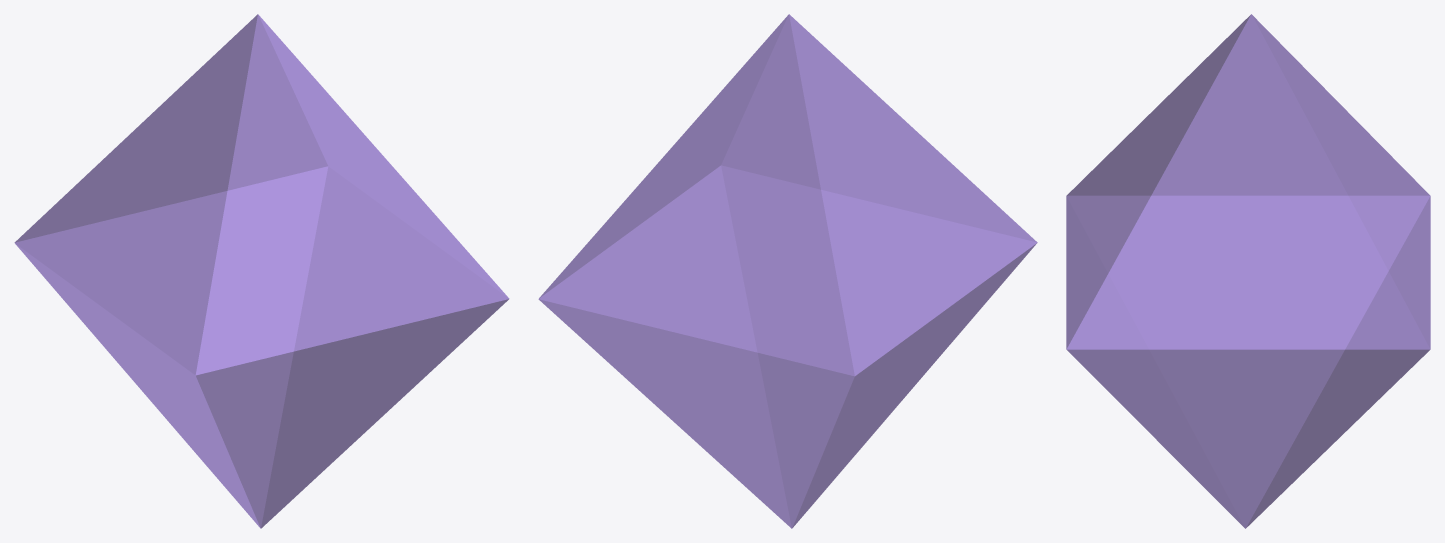
File: Gem_New_06.fbx
3 views of the same model, side by side, from view 1: azimuth 30°, elevation 25°; view 2: azimuth 150°, elevation 25°; view 3: azimuth 270°, elevation 25° (orthographic).
Visible parts, largest first — view 1: Model; view 2: Model; view 3: Model.
Boxes of the visible parts, x1,y1,x2,y2 form: Model: (14,14,509,528); Model: (538,14,1037,528); Model: (1066,14,1430,528).
Bounding box in the file's own units: 53.08 × 82.84 × 53.08.
